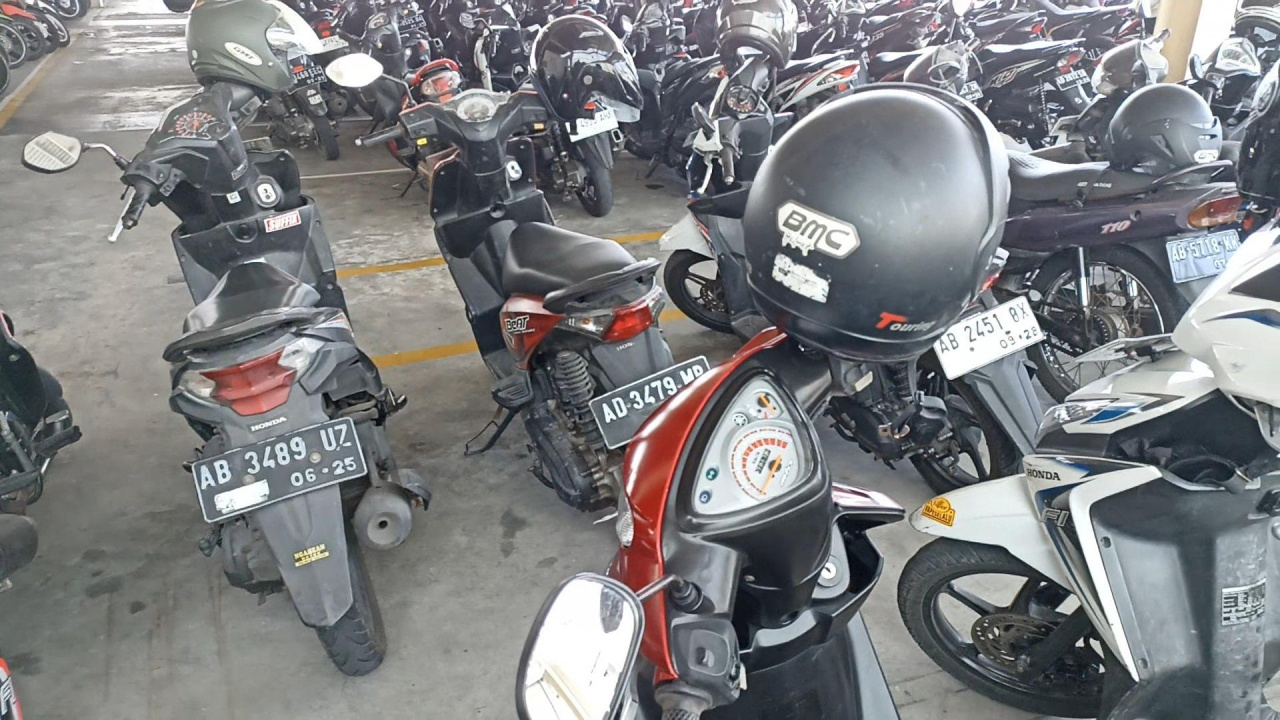plate: (191, 415, 368, 523), (933, 295, 1046, 380)
